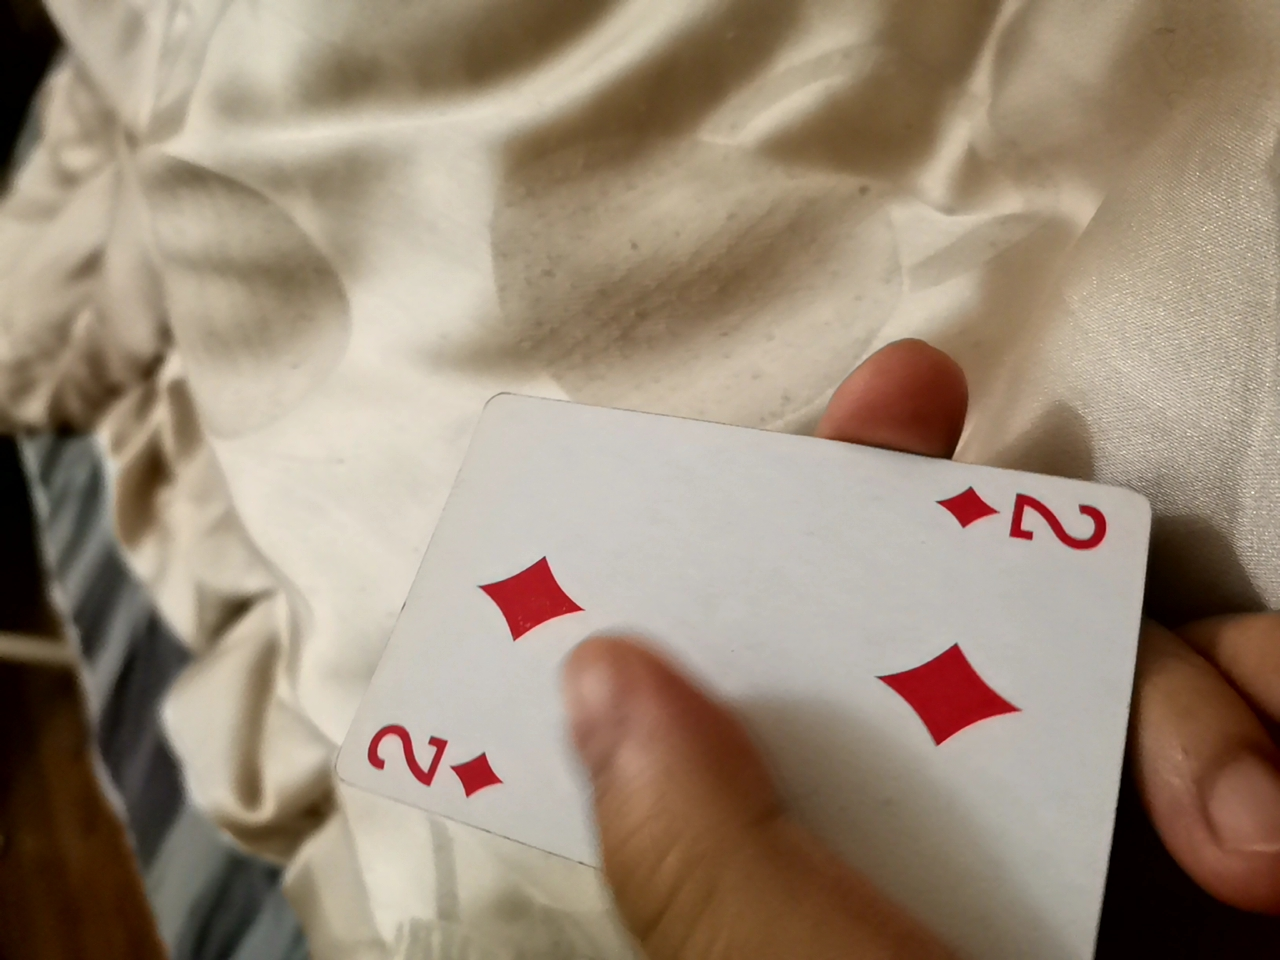fk 2: (267, 342, 1127, 908)
